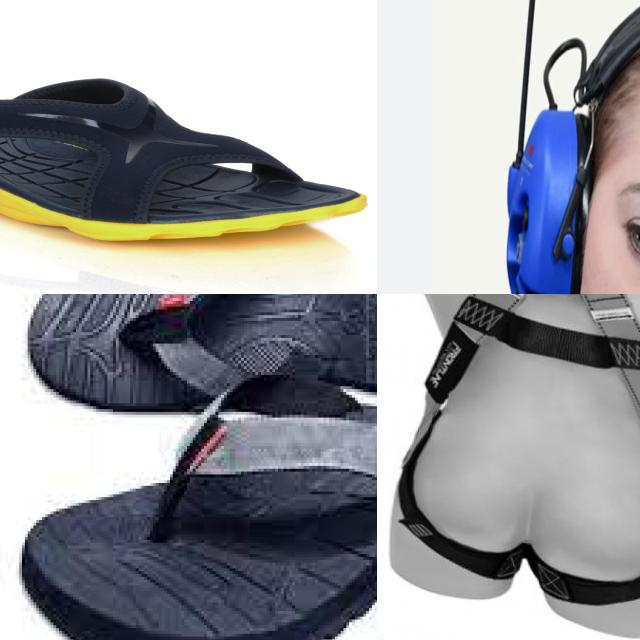Ear-protection: (506, 0, 640, 294)
Harness: (398, 294, 640, 606)
Sandals: (0, 294, 377, 640), (0, 76, 370, 243)
